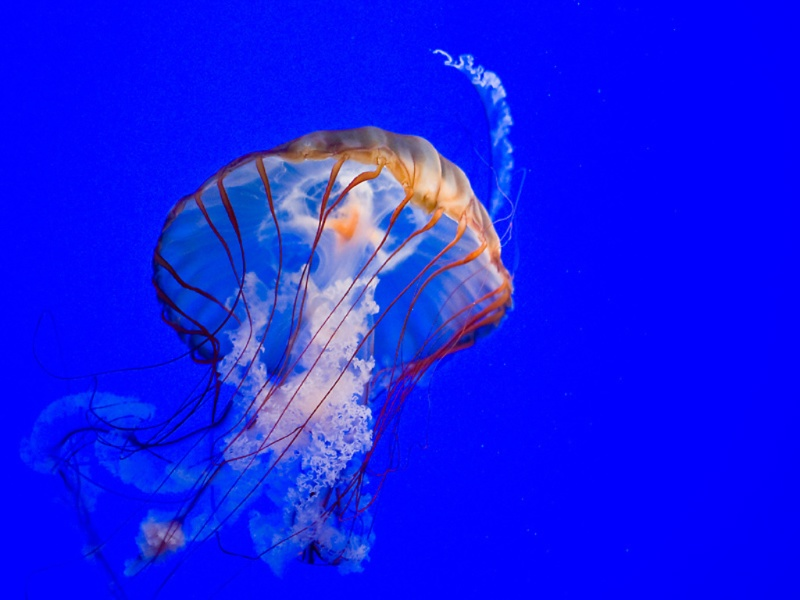Jellyfish: (37, 106, 543, 600)
